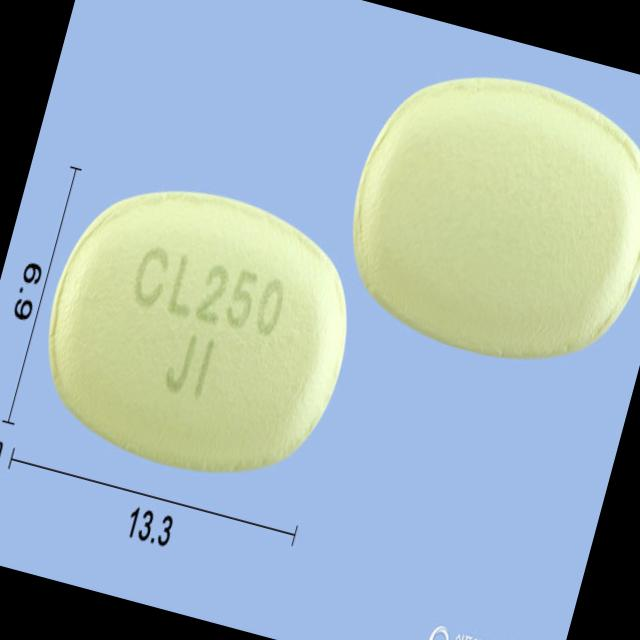Jecli - 500mg: (18, 160, 377, 506)
